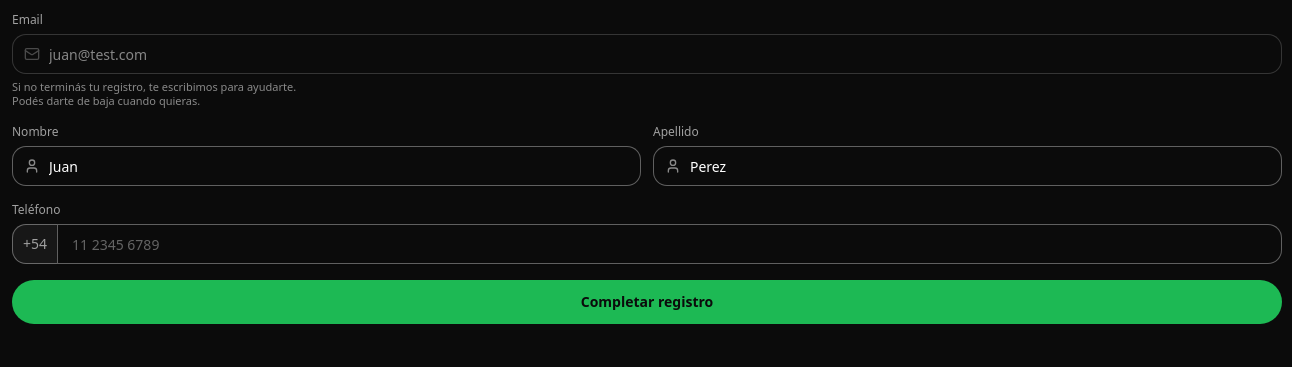
Test: GoogleCompleteForm › requires a phone number before submit
Click the button "Completar registro". click: (647, 302)
box: [12,280,1282,324]
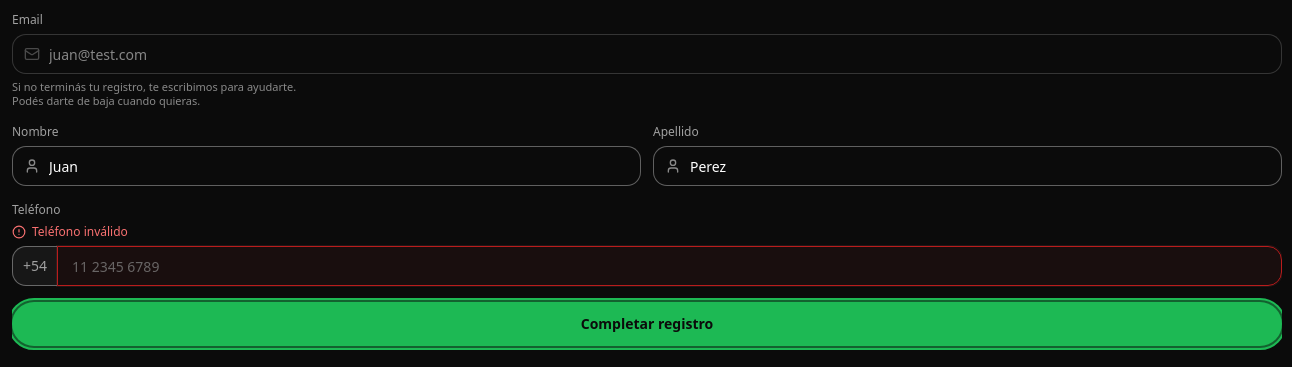
Expected: the message "Teléfono inválido" is shown, [12,223,128,240]
